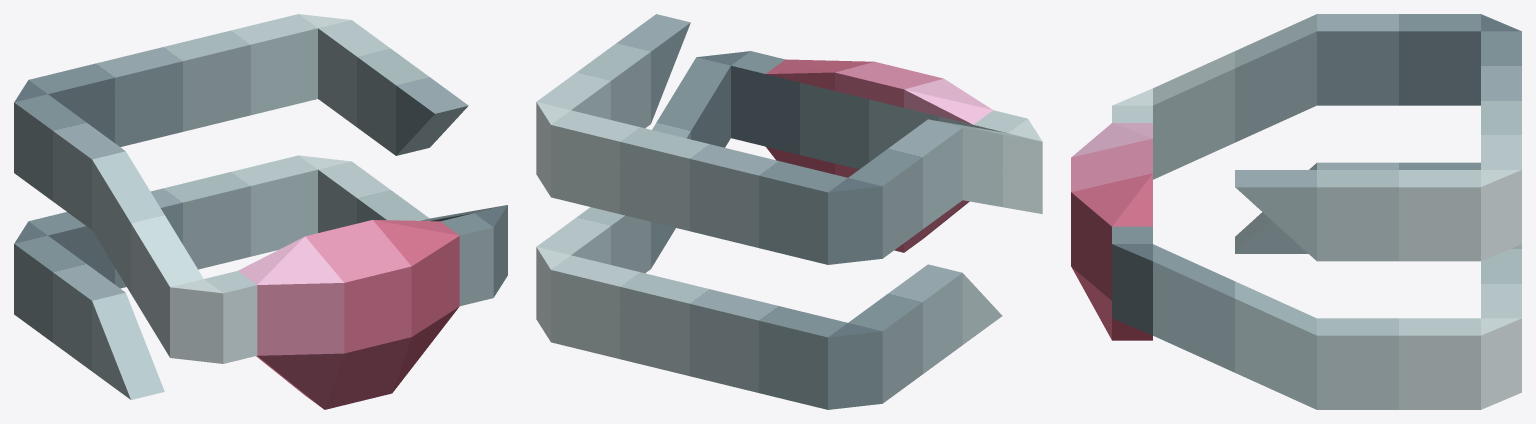
File: bracelet_trickery.obj
3 views of the same model, side by side, from view 1: azimuth 30°, elevation 25°; view 2: azimuth 150°, elevation 25°; view 3: azimuth 270°, elevation 25° (orthographic). The views are drawn at different scales.
Visible parts, largest first — view 1: BRACELET_FULL_TRICKERY_Cube.021; view 2: BRACELET_FULL_TRICKERY_Cube.021; view 3: BRACELET_FULL_TRICKERY_Cube.021.
Part boxes in pixels (left/top/right/bottom): BRACELET_FULL_TRICKERY_Cube.021: left=14, top=14, right=507, bottom=409; BRACELET_FULL_TRICKERY_Cube.021: left=536, top=14, right=1042, bottom=409; BRACELET_FULL_TRICKERY_Cube.021: left=1071, top=14, right=1521, bottom=409.
Size of the model in its own units: 0.3125 by 0.1875 by 0.3438.
